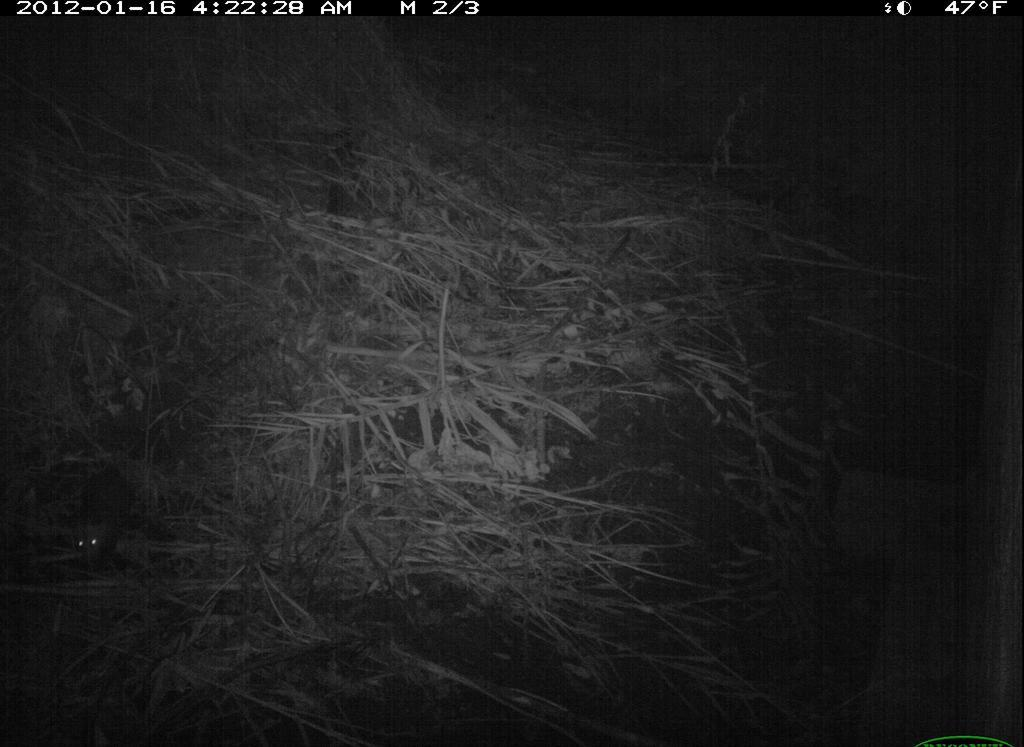opossum: (49, 440, 149, 588)
